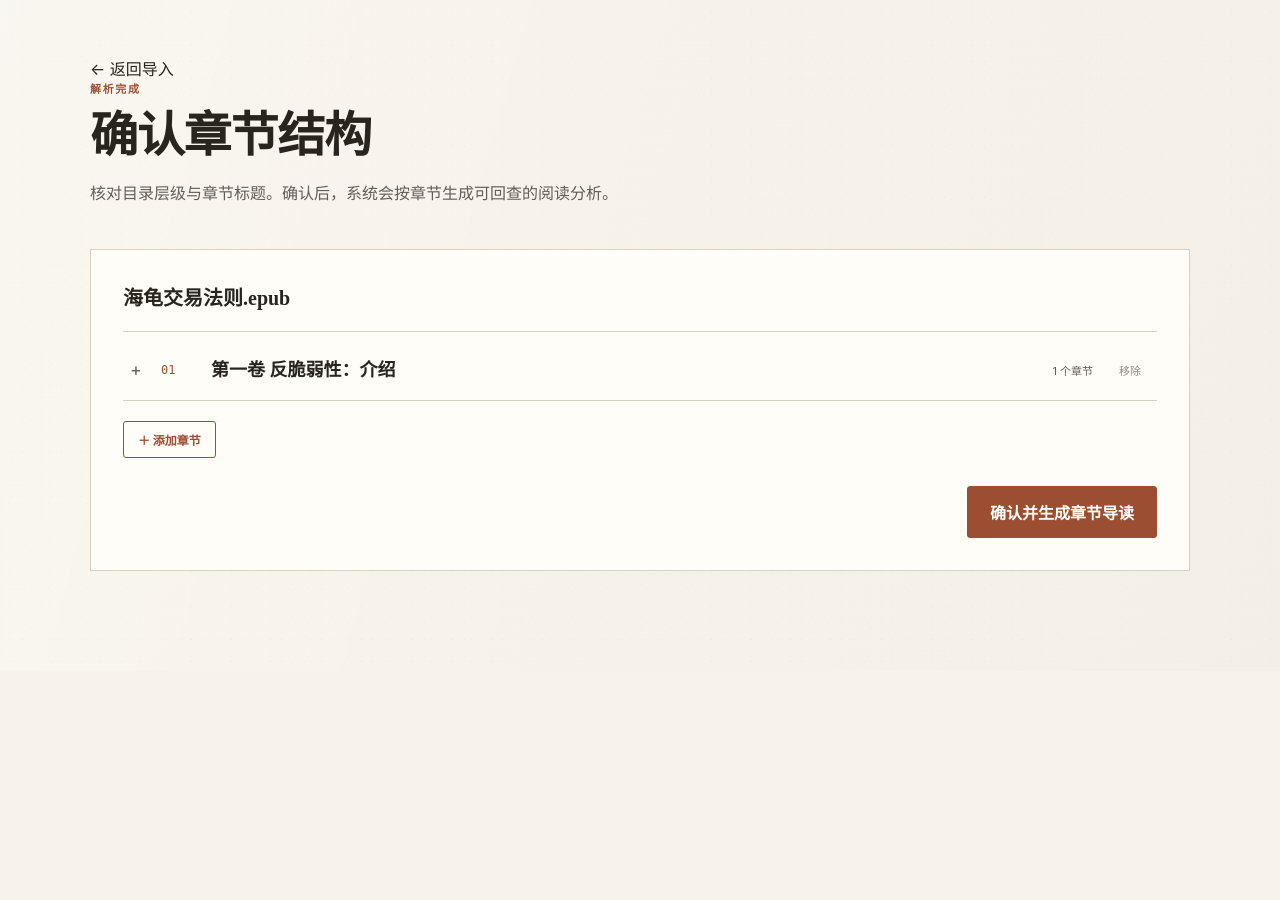
Scenario: ChapterEditor hierarchy › nests publisher chapters under their volume
expect the field showing "第1章 达摩克利斯之剑和九头蛇怪" is not shown: met
Click the button named "展开「第一卷 反脆弱性：介绍」的章节".
click(136, 370)  # box [123,357,149,383]
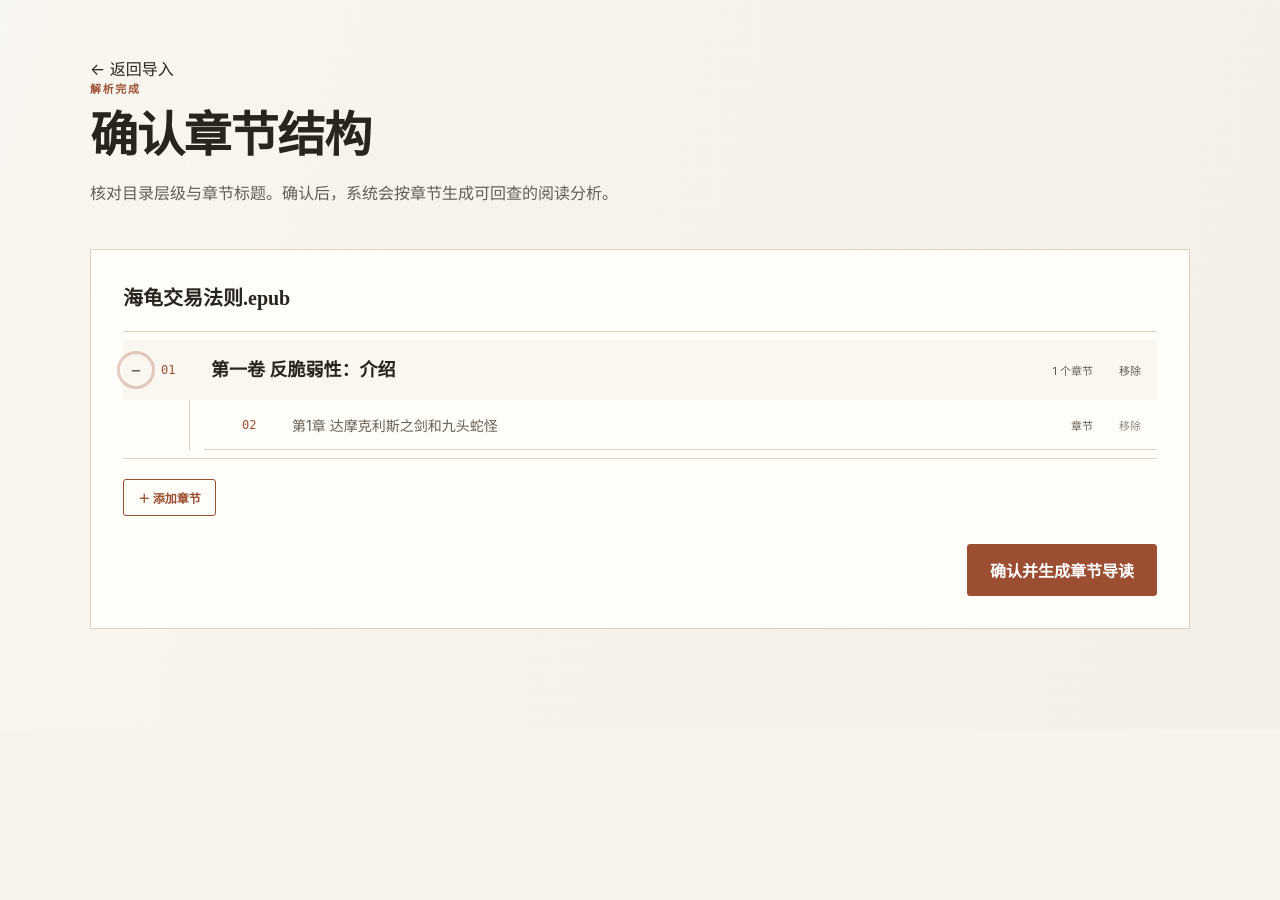
expect the field showing "第1章 达摩克利斯之剑和九头蛇怪" next to "02" is shown: met, box [290,408,1001,440]
